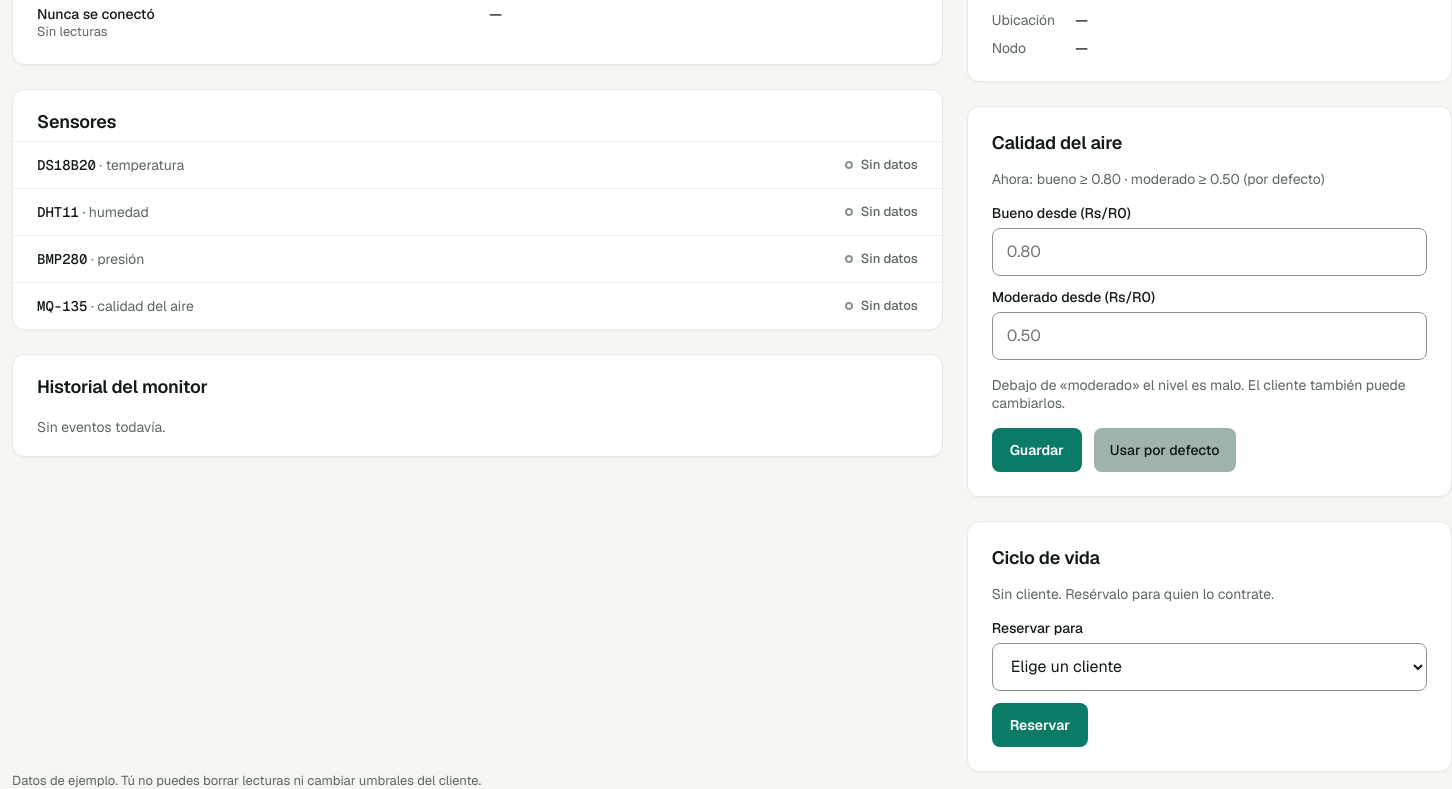
MonitorFicha › reserva un monitor disponible para un cliente
(page scrolled)
Click the button "Reservar".
click(1040, 725)  # box [992, 703, 1088, 747]
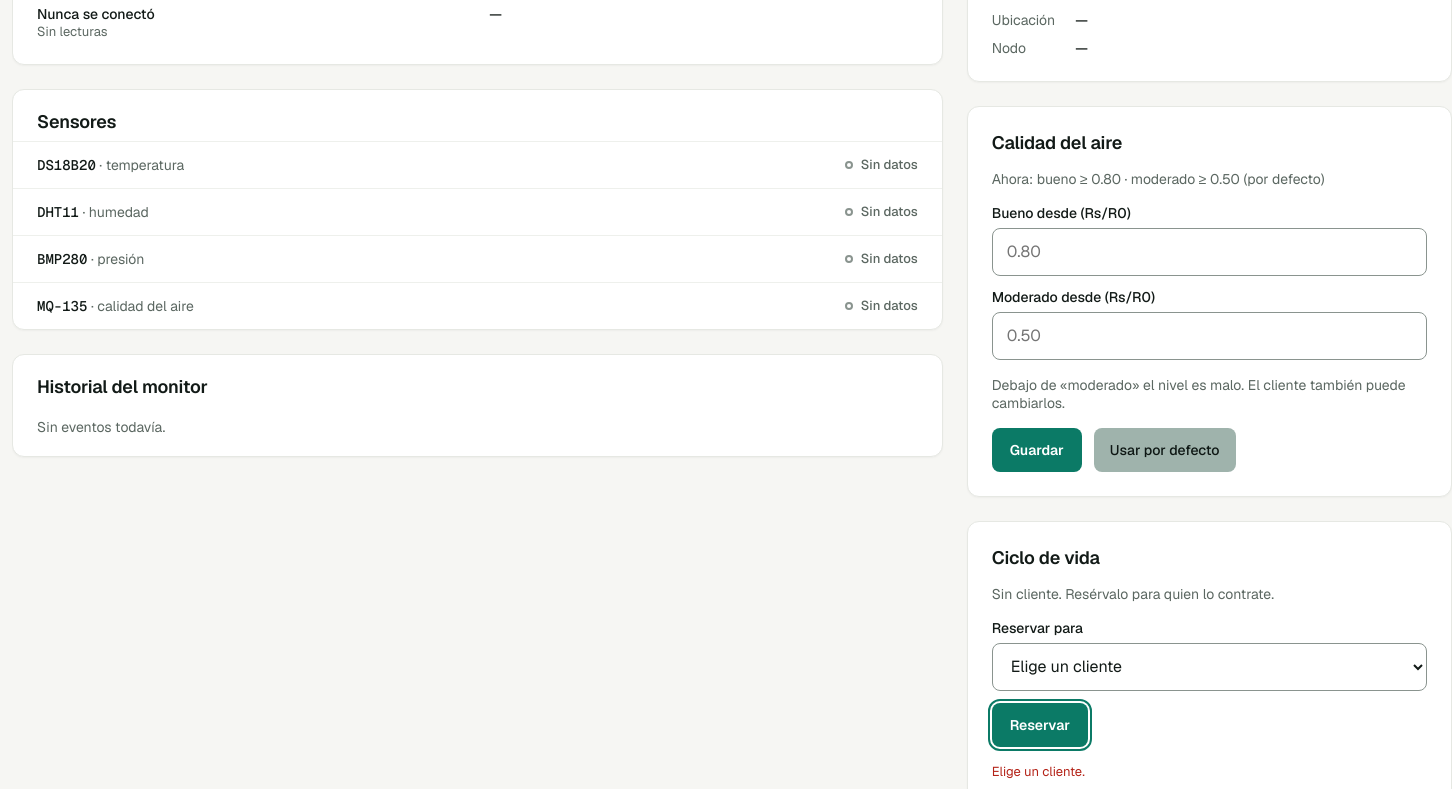
expect the message reads "Elige un cliente.": met, box [992, 763, 1085, 780]
Select "Vivero Los Andes · contacto@viveroandes.com" in the dropdown labelled "Reservar para" at (1209, 667), box [992, 643, 1427, 691]
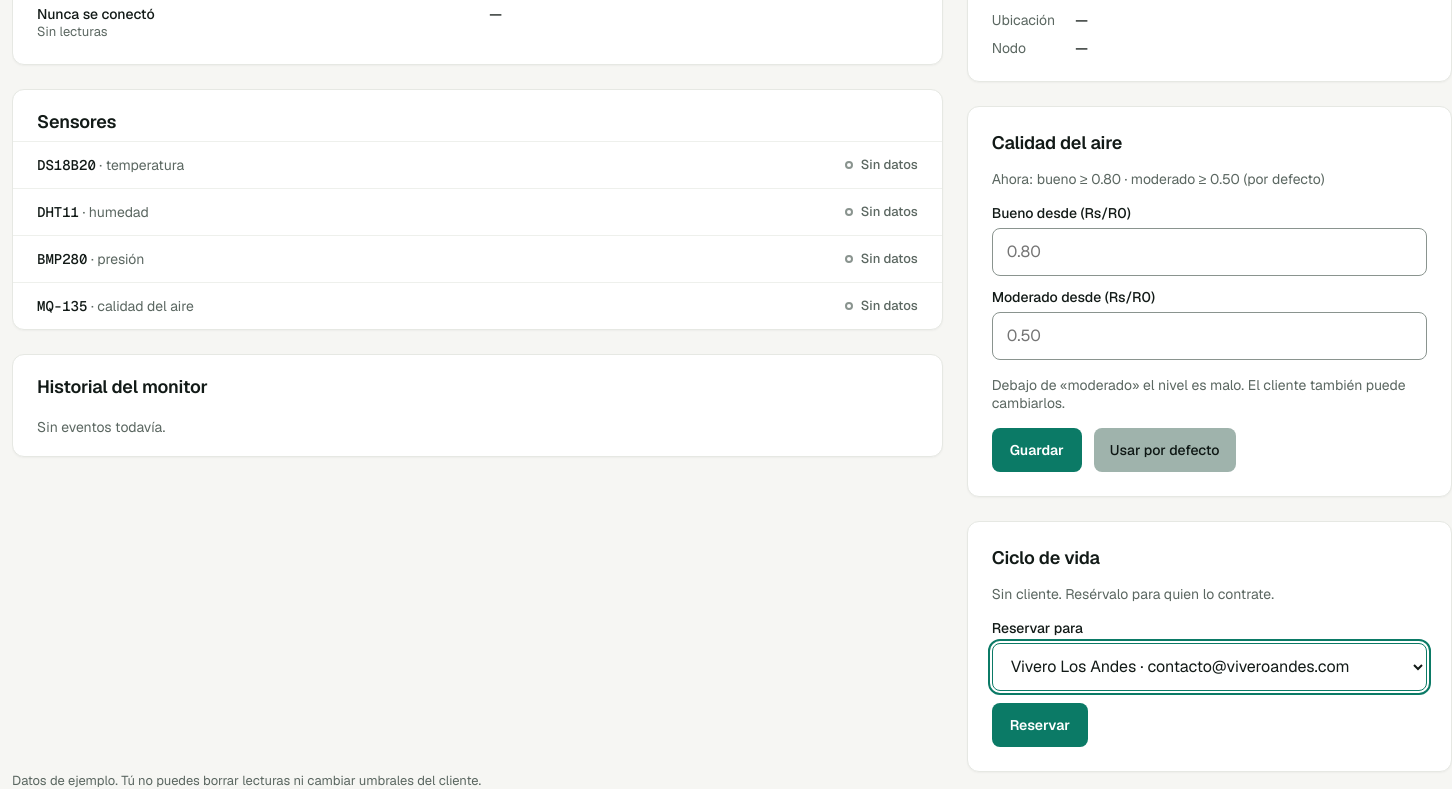
Click the button "Reservar".
click(1040, 725)  # box [992, 703, 1088, 747]
(page scrolled)
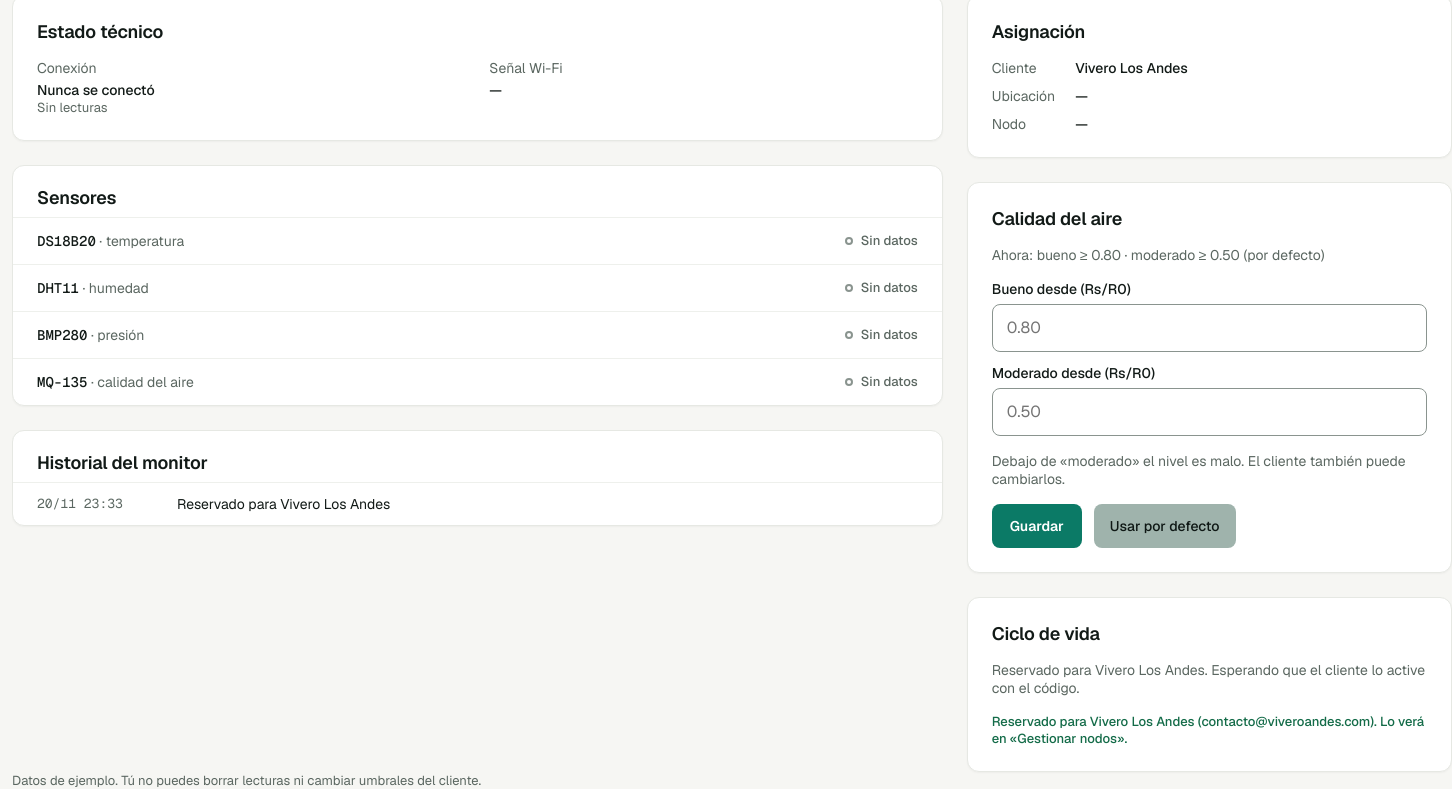
expect the text "Reservado para Vivero Los Andes (contacto@viveroandes.com). Lo verá" is shown: met, box [992, 713, 1424, 747]
expect the text "Vivero Los Andes" is shown: met, box [1075, 59, 1188, 77]
